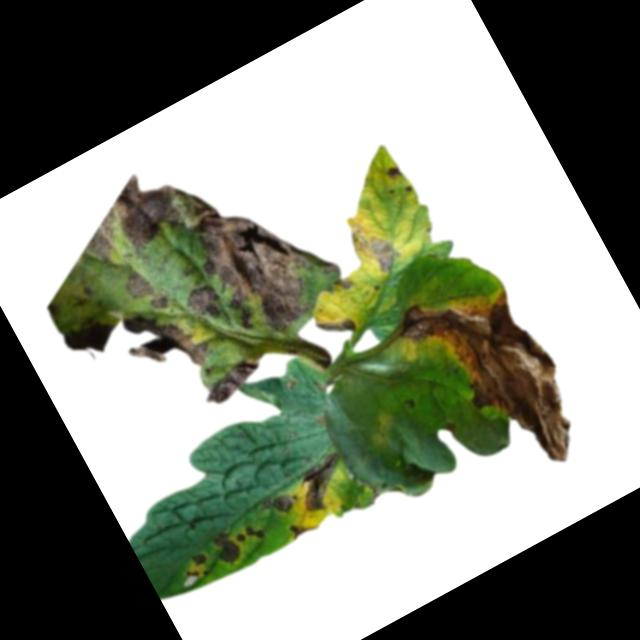Early_blight: (392, 257, 600, 502), (186, 178, 354, 352), (70, 148, 217, 276), (112, 293, 214, 396), (287, 450, 356, 517), (345, 216, 408, 285), (195, 353, 268, 410), (58, 315, 122, 373), (183, 281, 231, 333), (109, 265, 158, 314), (313, 306, 358, 346), (207, 529, 245, 572), (174, 551, 214, 590), (258, 489, 295, 524), (231, 522, 266, 553), (285, 514, 319, 543), (332, 273, 356, 296), (382, 163, 405, 185)
